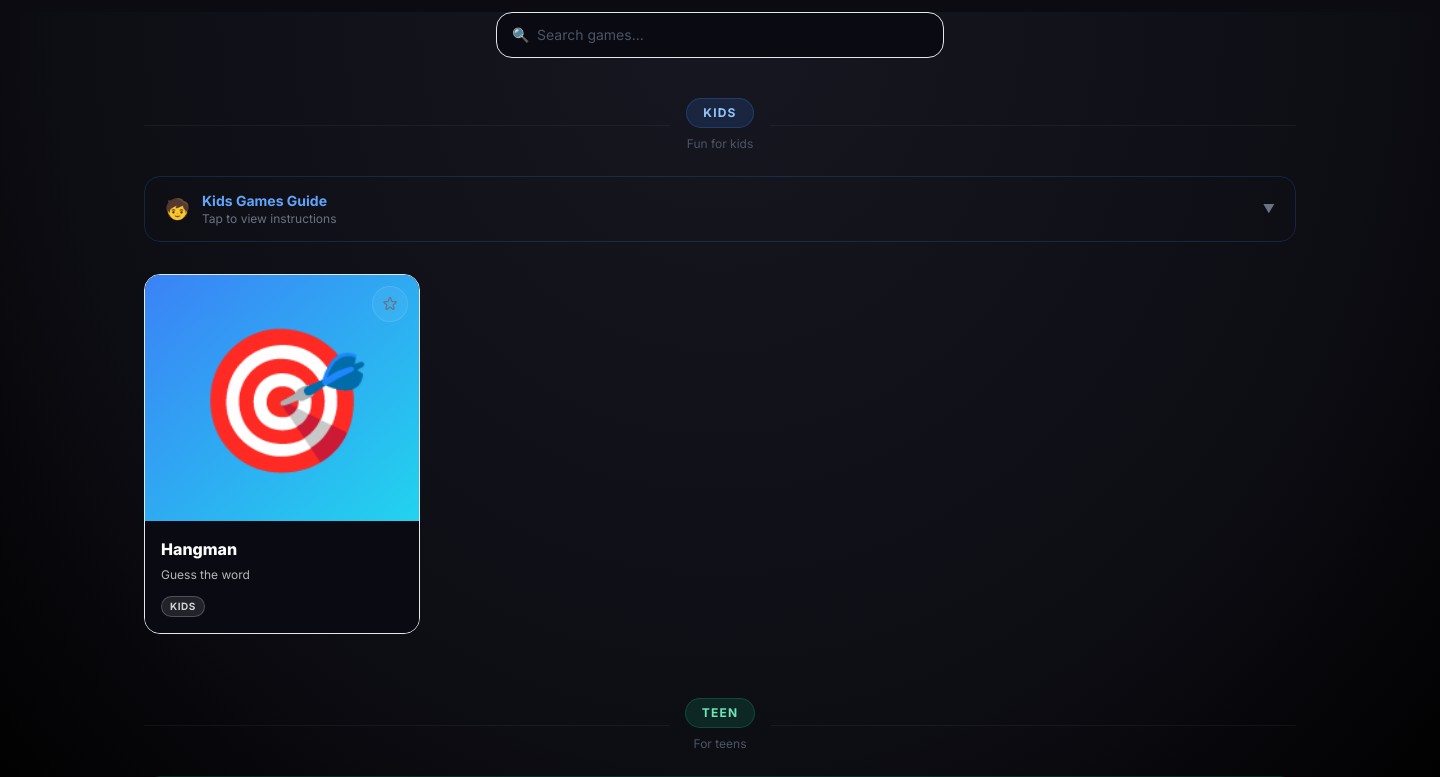
GamesClient › shows no results message when search has no matches
The width and height of the screenshot is (1440, 777).
In the search field: (720, 35) left=496, top=12, right=944, bottom=58, type "zzzzz"
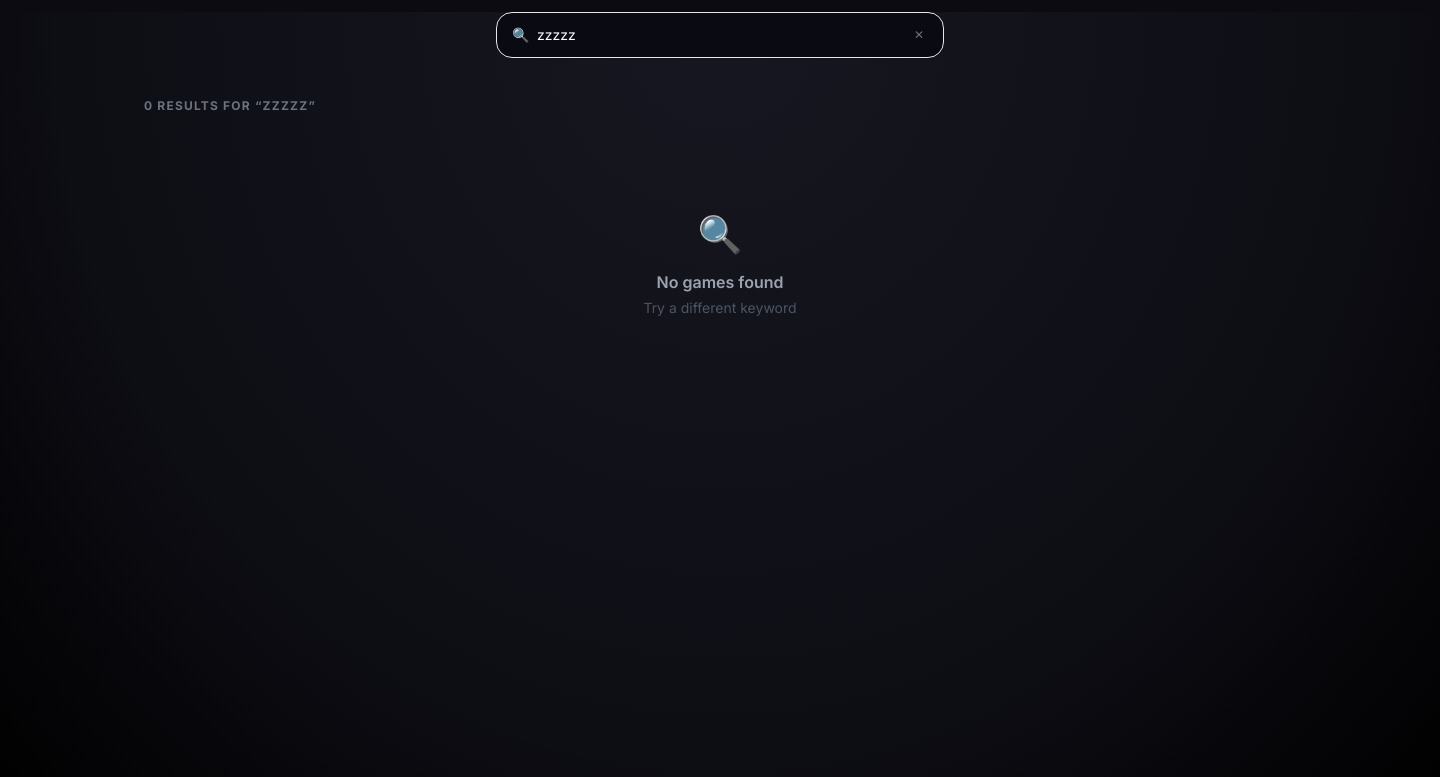
Expected: the text "No games found" is shown, left=656, top=272, right=784, bottom=292
